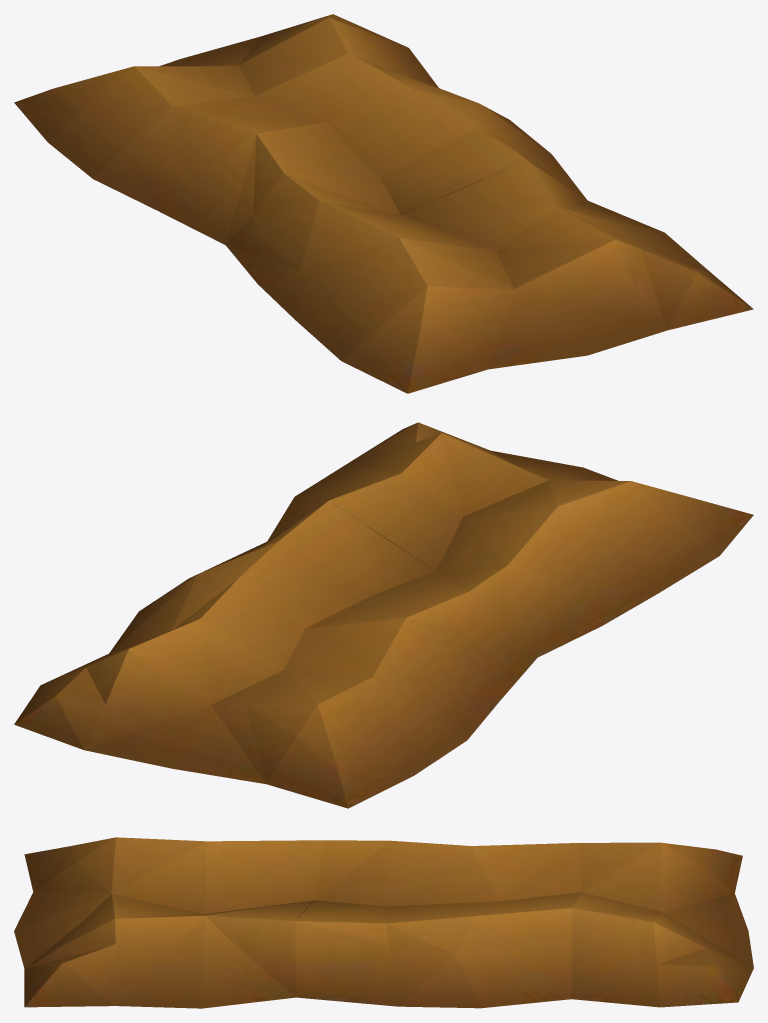
The model's file is road_mud_straight.glb.
3 renders of one model, top to bottom at view 1: azimuth 30°, elevation 25°; view 2: azimuth 150°, elevation 25°; view 3: azimuth 270°, elevation 25°, orthographic. The views are drawn at different scales.
Visible parts, largest first — view 1: road_mud_straight; view 2: road_mud_straight; view 3: road_mud_straight.
Part boxes in pixels (box(x1,y1,x2,y2)): road_mud_straight: box(14, 14, 753, 393); road_mud_straight: box(14, 422, 753, 808); road_mud_straight: box(14, 837, 753, 1008).
Size of the model in its own units: 2.63 by 0.4032 by 5.02.
1 material, 1 textured.
